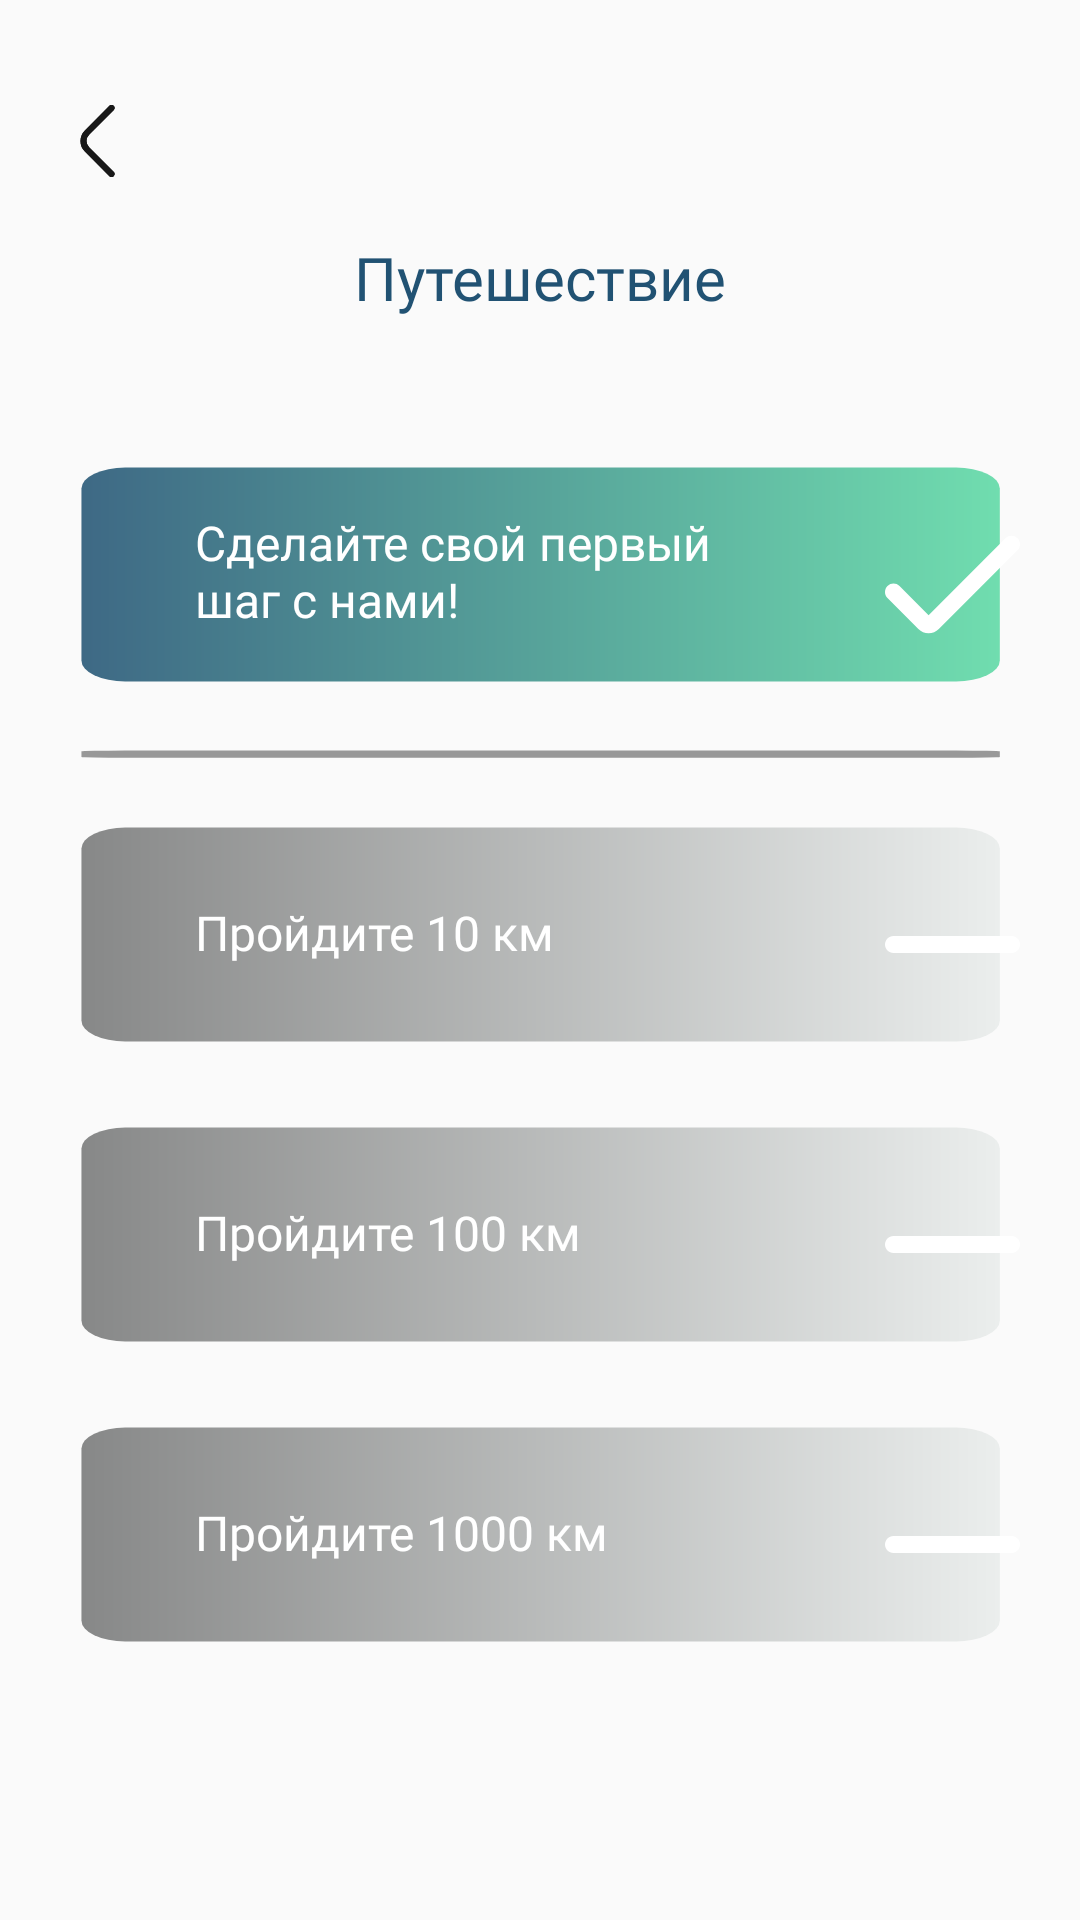

Named icons in this screenshot (1080 × 1920) and their centers, (x,y):
arrow back: (97,141)
check: (952,584)
